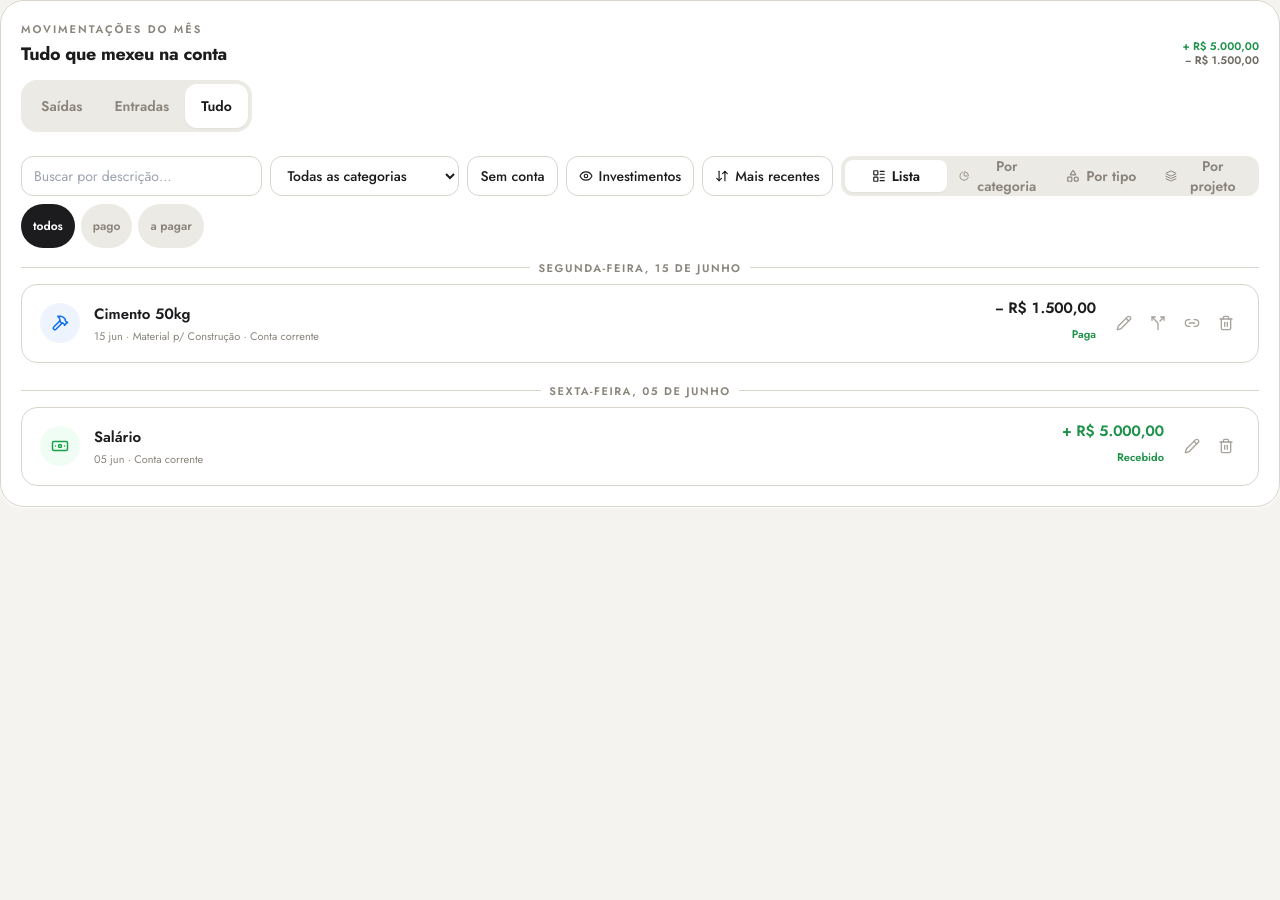
Test case: MovimentacoesSection → FinancialItemDetail wiring › clicking a row opens the detail sheet at mobile width
The image size is (1280, 900).
// Find the first row title button and click it
Click the 1st button named "Ver detalhe" at (60, 323), box [38,301,82,345]
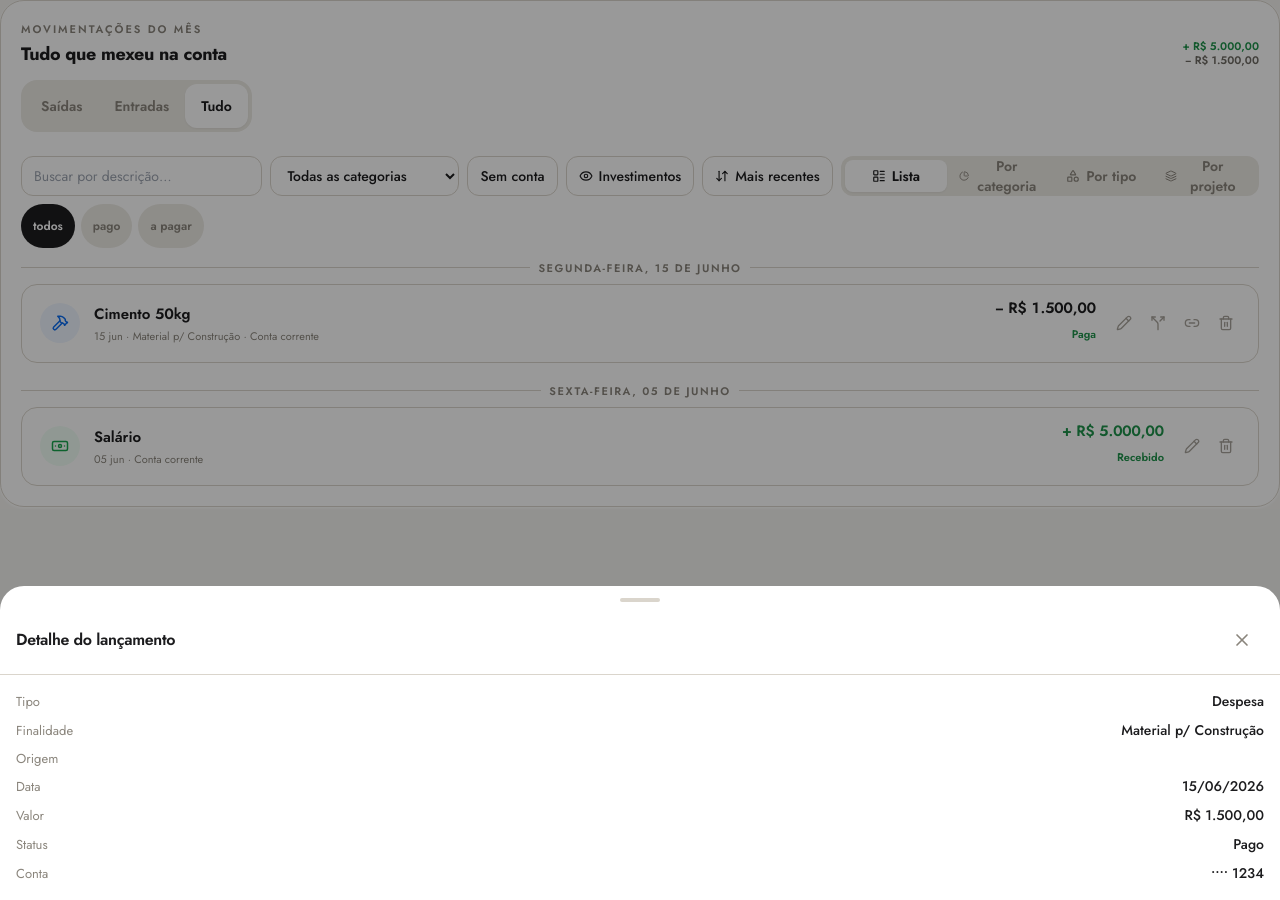
Expected: the element with test id "financial-detail-sheet" is shown
